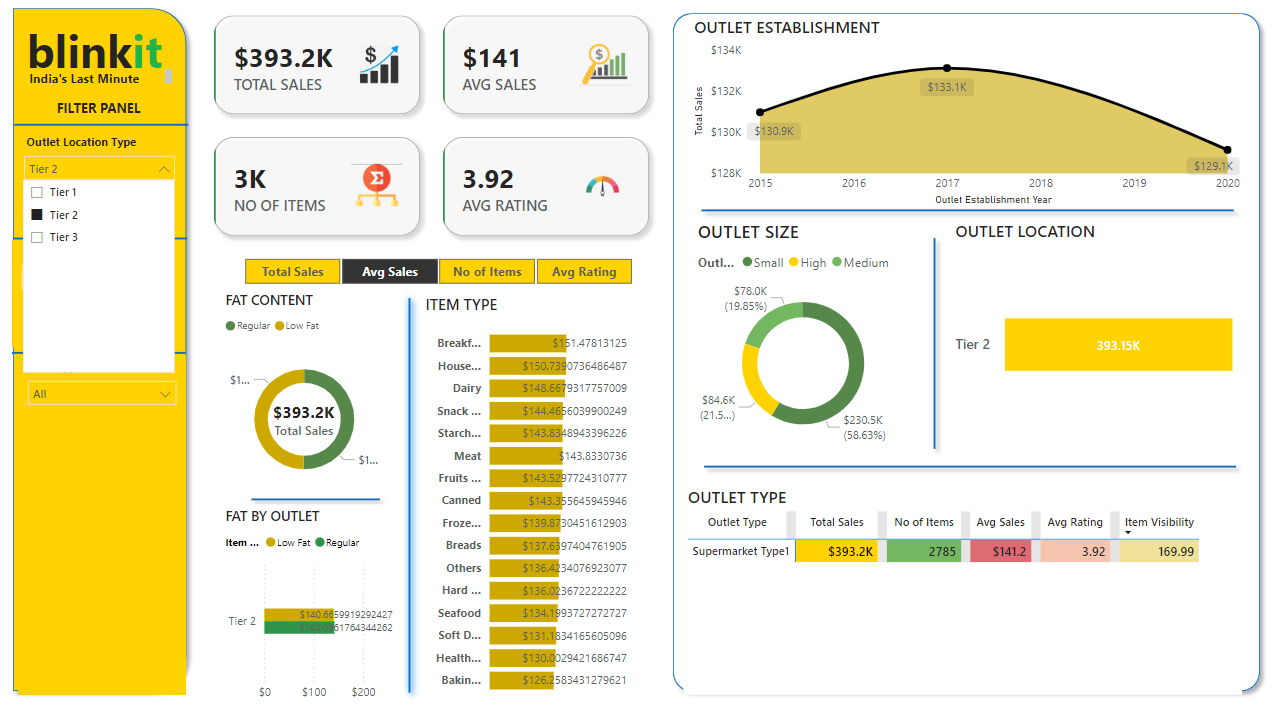

The dashboard page shown, as its layout file describes it:
{"tool":"powerbi","page":{"name":"Page 1","canvas":[1400,800],"ordinal":0},"visuals":[{"type":"shape","box":[13.5,25.5,204.1,750.4],"z":0},{"type":"textbox","box":[31.5,42,171.1,84],"z":1000},{"type":"textbox","box":[34.5,94.6,163.6,31.5],"z":2000},{"type":"cardVisual","fields":{"Data":["BlinkIT Grocery Data.Total Sales","BlinkIT Grocery Data.Avg Sales","BlinkIT Grocery Data.No of Items","BlinkIT Grocery Data.Avg Rating"]},"box":[221.2,25.5,500,270.8],"z":3000},{"type":"donutChart","title":"FAT CONTENT","fields":{"Y":["BlinkIT Grocery Data.No of Items"],"Category":["BlinkIT Grocery Data.Item Fat Content"]},"box":[245.3,336.5,179.6,230.6],"z":4000},{"type":"slicer","fields":{"Values":["Metrics.Metrics"]},"box":[245.3,296.2,465.1,40.2],"z":5000},{"type":"cardVisual","fields":{"Data":["BlinkIT Grocery Data.Total Sales"]},"box":[282.8,437,103.2,77.7],"z":6000},{"type":"clusteredBarChart","title":"FAT BY OUTLET","fields":{"Y":["BlinkIT Grocery Data.No of Items"],"Category":["BlinkIT Grocery Data.Outlet Location Type"],"Series":["BlinkIT Grocery Data.Item Fat Content"]},"box":[245.3,568.4,202.4,217.2],"z":7000},{"type":"shape","box":[435.7,336.5,24.1,441],"z":8000},{"type":"shape","box":[269.4,552.3,155.5,14.7],"z":9000},{"type":"barChart","title":"ITEM TYPE","fields":{"Y":["BlinkIT Grocery Data.No of Items"],"Category":["BlinkIT Grocery Data.Item Type"]},"box":[459.8,340.5,226.5,439.7],"z":10000},{"type":"shape","box":[721.2,30.8,647.5,745.3],"z":11000},{"type":"lineChart","title":"OUTLET ESTABLISHMENT","fields":{"Category":["BlinkIT Grocery Data.Outlet Establishment Year"],"Y":["BlinkIT Grocery Data.Total Sales"]},"box":[748,42.9,595.2,207.8],"z":12000},{"type":"donutChart","title":"OUTLET SIZE","fields":{"Y":["BlinkIT Grocery Data.Total Sales"],"Category":["BlinkIT Grocery Data.Outlet Size"]},"box":[752,261.4,235.9,253.4],"z":13000},{"type":"shape","box":[752,230.6,588.5,41.6],"z":14000},{"type":"funnel","title":"OUTLET LOCATION","fields":{"Category":["BlinkIT Grocery Data.Outlet Location Type"],"Y":["Sum(BlinkIT Grocery Data.Sales)"]},"box":[1028.2,261.4,312.3,244],"z":15000},{"type":"shape","box":[754.7,505.4,588.5,41.6],"z":16000},{"type":"pivotTable","title":"OUTLET TYPE","fields":{"Rows":["BlinkIT Grocery Data.Outlet Type"],"Values":["BlinkIT Grocery Data.Total Sales","BlinkIT Grocery Data.No of Items","BlinkIT Grocery Data.Avg Sales","BlinkIT Grocery Data.Avg Rating","Sum(BlinkIT Grocery Data.Item Visibility)"]},"box":[741.3,546.9,599.2,223.9],"z":17000},{"type":"shape","box":[992,272.1,37.5,244],"z":18000},{"type":"slicer","fields":{"Values":["BlinkIT Grocery Data.Outlet Location Type"]},"box":[24.1,164.9,182.3,108.6],"z":19000},{"type":"slicer","fields":{"Values":["BlinkIT Grocery Data.Outlet Size"]},"box":[21.4,282.8,182.3,115.3],"z":20000},{"type":"slicer","fields":{"Values":["BlinkIT Grocery Data.Item Type"]},"box":[28.2,406.2,179.6,364.6],"z":21000},{"type":"shape","box":[24.1,147.5,186.3,24.1],"z":22000},{"type":"shape","box":[22.8,273.5,186.3,16.1],"z":23000},{"type":"shape","box":[21.4,398.1,186.3,12.1],"z":24000},{"type":"textbox","box":[64.3,127.3,113.9,32.2],"z":25000}]}

Visuals, with their boxes in screenshot pixels (x1, y1, x2, y2), scaled from the page's 1400x800 canvas onto the 1272x712 screenshot:
shape: bbox(12, 23, 198, 691)
textbox: bbox(29, 37, 184, 112)
textbox: bbox(31, 84, 180, 112)
cardVisual - BlinkIT Grocery Data.Total Sales x BlinkIT Grocery Data.Avg Sales: bbox(201, 23, 655, 264)
"FAT CONTENT" donutChart: bbox(223, 299, 386, 505)
slicer - Metrics.Metrics: bbox(223, 264, 645, 299)
cardVisual - BlinkIT Grocery Data.Total Sales: bbox(257, 389, 351, 458)
"FAT BY OUTLET" clusteredBarChart: bbox(223, 506, 407, 699)
shape: bbox(396, 299, 418, 692)
shape: bbox(245, 492, 386, 505)
"ITEM TYPE" barChart: bbox(418, 303, 624, 694)
shape: bbox(655, 27, 1244, 691)
"OUTLET ESTABLISHMENT" lineChart: bbox(680, 38, 1220, 223)
"OUTLET SIZE" donutChart: bbox(683, 233, 898, 458)
shape: bbox(683, 205, 1218, 242)
"OUTLET LOCATION" funnel: bbox(934, 233, 1218, 450)
shape: bbox(686, 450, 1220, 487)
"OUTLET TYPE" pivotTable: bbox(674, 487, 1218, 686)
shape: bbox(901, 242, 935, 459)
slicer - BlinkIT Grocery Data.Outlet Location Type: bbox(22, 147, 188, 243)
slicer - BlinkIT Grocery Data.Outlet Size: bbox(19, 252, 185, 354)
slicer - BlinkIT Grocery Data.Item Type: bbox(26, 362, 189, 686)
shape: bbox(22, 131, 191, 153)
shape: bbox(21, 243, 190, 258)
shape: bbox(19, 354, 189, 365)
textbox: bbox(58, 113, 162, 142)
